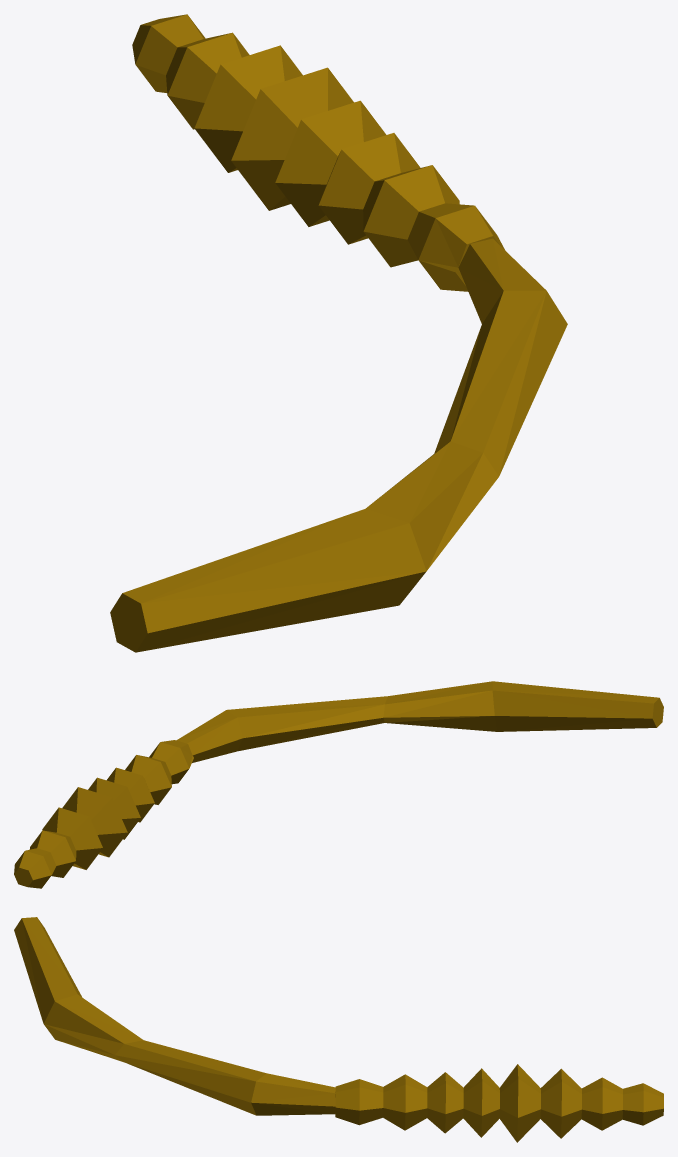
File: Vegetation_Modular_Rush_Frond_Seed_Pod_03.fbx
3 renders of one model, top to bottom at view 1: azimuth 30°, elevation 25°; view 2: azimuth 150°, elevation 25°; view 3: azimuth 270°, elevation 25°, orthographic. The views are drawn at different scales.
Parts seen in each view (by area): view 1: Vegetation_Modular_Rush_Frond_Seed_Pod_03; view 2: Vegetation_Modular_Rush_Frond_Seed_Pod_03; view 3: Vegetation_Modular_Rush_Frond_Seed_Pod_03.
Boxes of the visible parts, x1=… form: Vegetation_Modular_Rush_Frond_Seed_Pod_03: x1=110, y1=14, x2=567, y2=652; Vegetation_Modular_Rush_Frond_Seed_Pod_03: x1=14, y1=681, x2=663, y2=888; Vegetation_Modular_Rush_Frond_Seed_Pod_03: x1=14, y1=917, x2=663, y2=1142.
Size of the model in its own units: 208 by 35.13 by 319.
